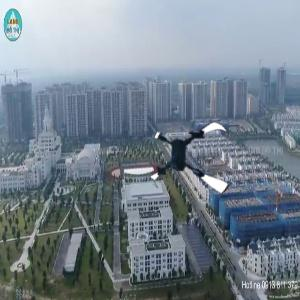drone: (150, 115, 240, 205)
